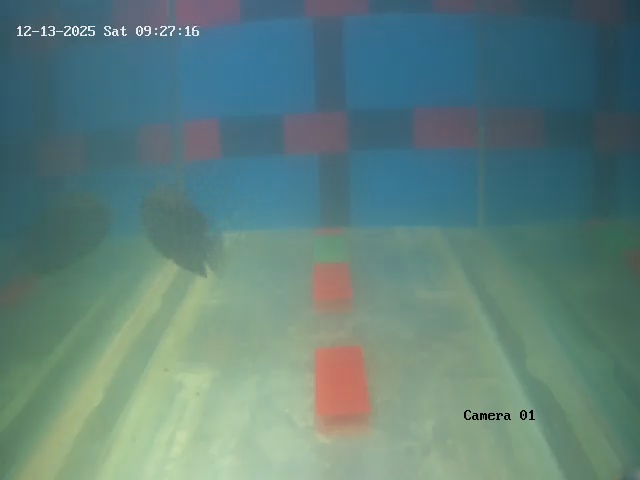fish: (128, 191, 242, 277)
